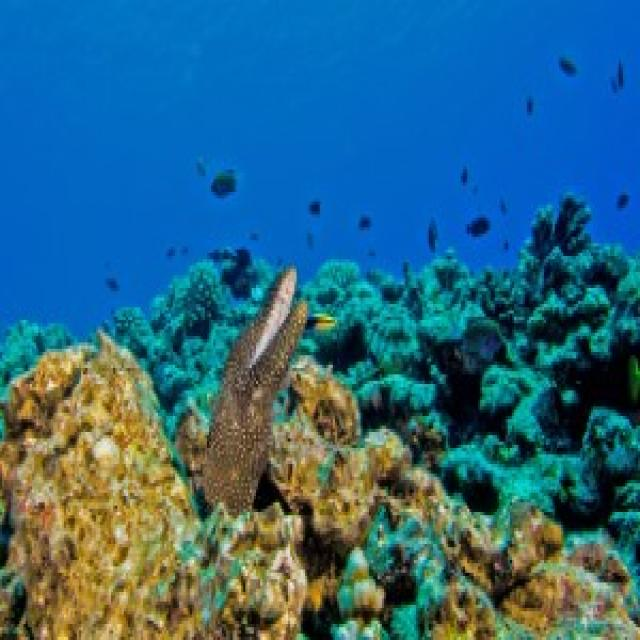Healthy: (1, 337, 219, 638), (334, 471, 639, 638), (270, 363, 408, 548), (182, 507, 306, 638)
